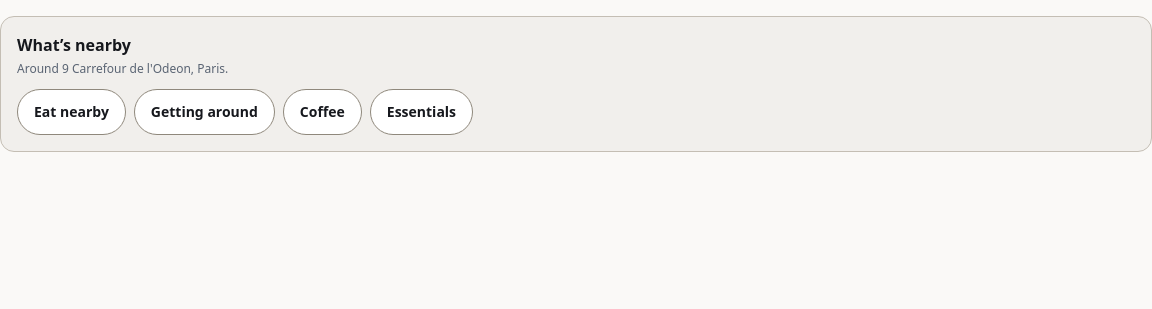
it: what is nearby › shows the answer and the places it cited
Click the button "Eat nearby": (71,112) x1=17 y1=89 x2=126 y2=135
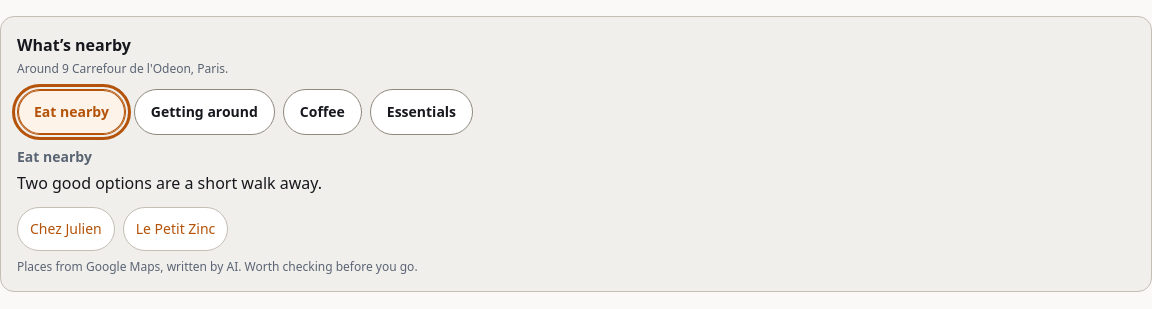
Check: the text "Two good options are a short walk away." is shown, box x1=17 y1=172 x2=322 y2=194
Check: the link "Le Petit Zinc" is shown, box x1=123 y1=207 x2=228 y2=251
